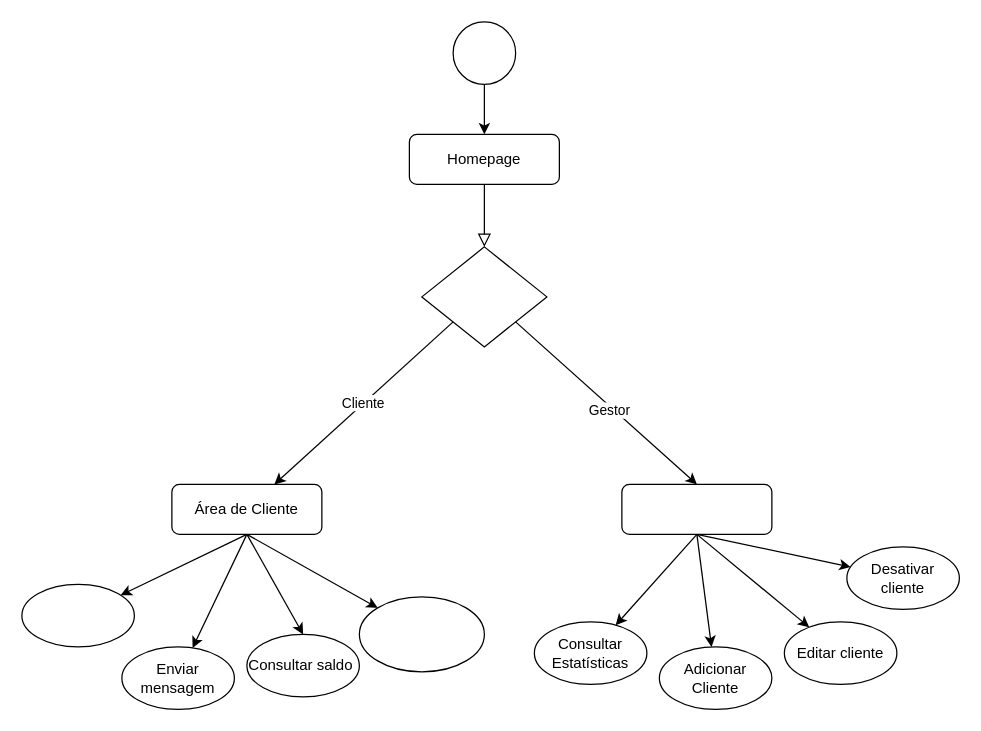
This 981x731 diagram has some shape labels left out. The shapes that lost their labels are listed below. From the top down, each one's centre as x and y in pixels, then its label:
point (484, 296): Tipo utilizador
point (696, 508): Área de Gestão
point (77, 615): Carregar saldo
point (421, 634): Consultar Caixa de Mensagens
